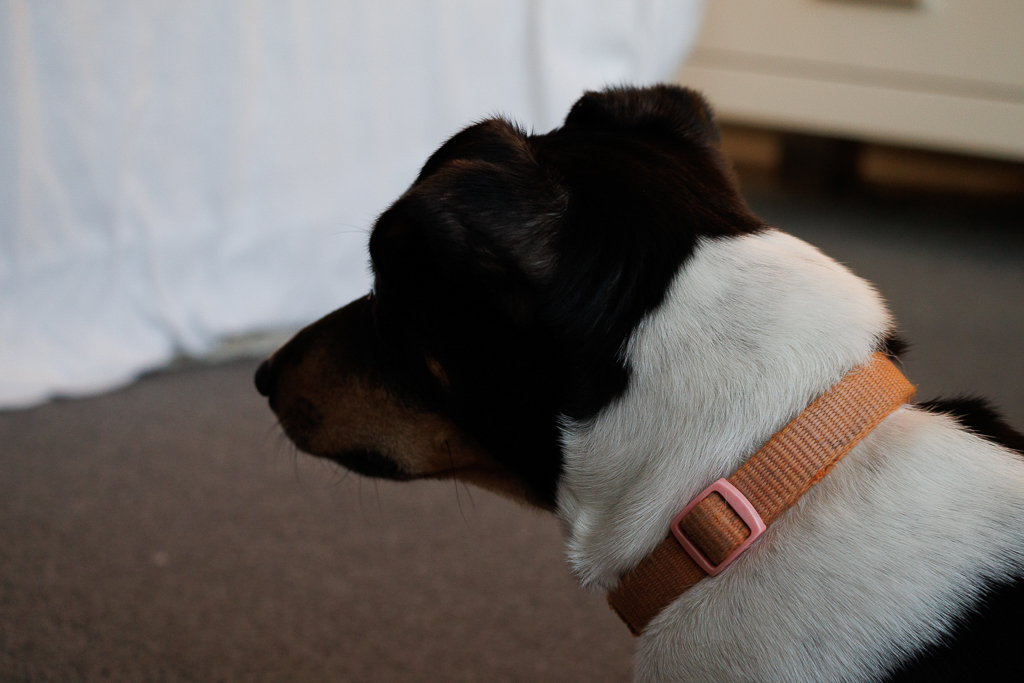Dog: (243, 76, 1023, 682)
